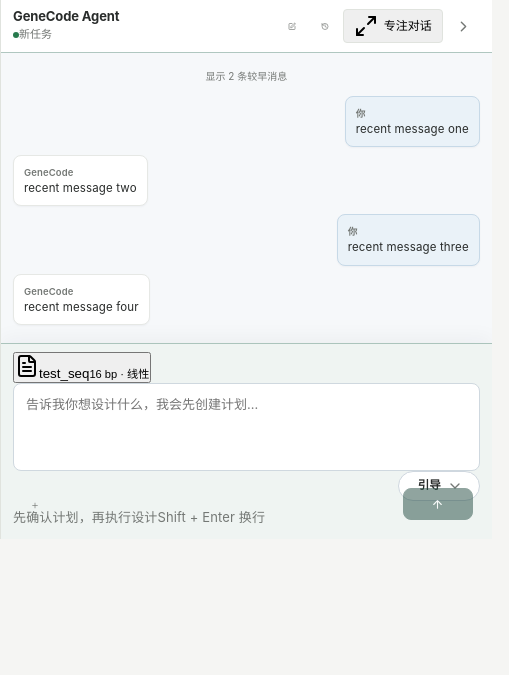
AgentPanel › keeps the current conversation visible while older messages stay hidden
The width and height of the screenshot is (509, 675).
Check: the text "old message one" is not shown
Check: the text "recent message four" is shown, box [24,300,139,314]
Click the button "显示 2 条较早消息" at (246, 77), box [198,66,294,88]
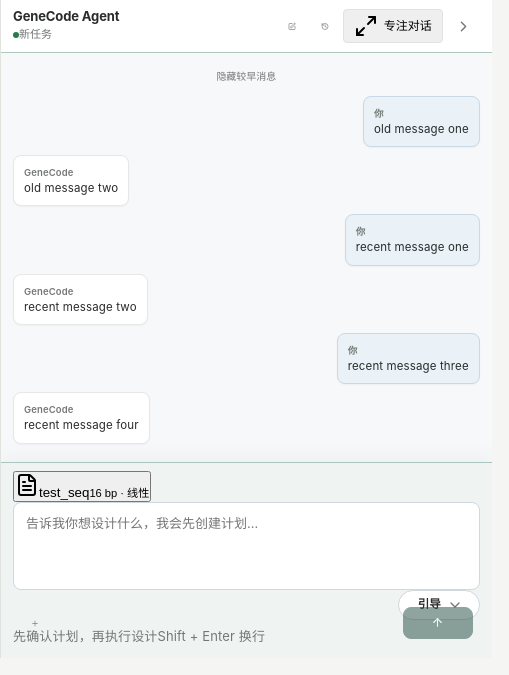
Check: the text "old message one" is shown, box [374,122,469,136]
Check: the button "隐藏较早消息" is shown, box [209,66,283,88]
